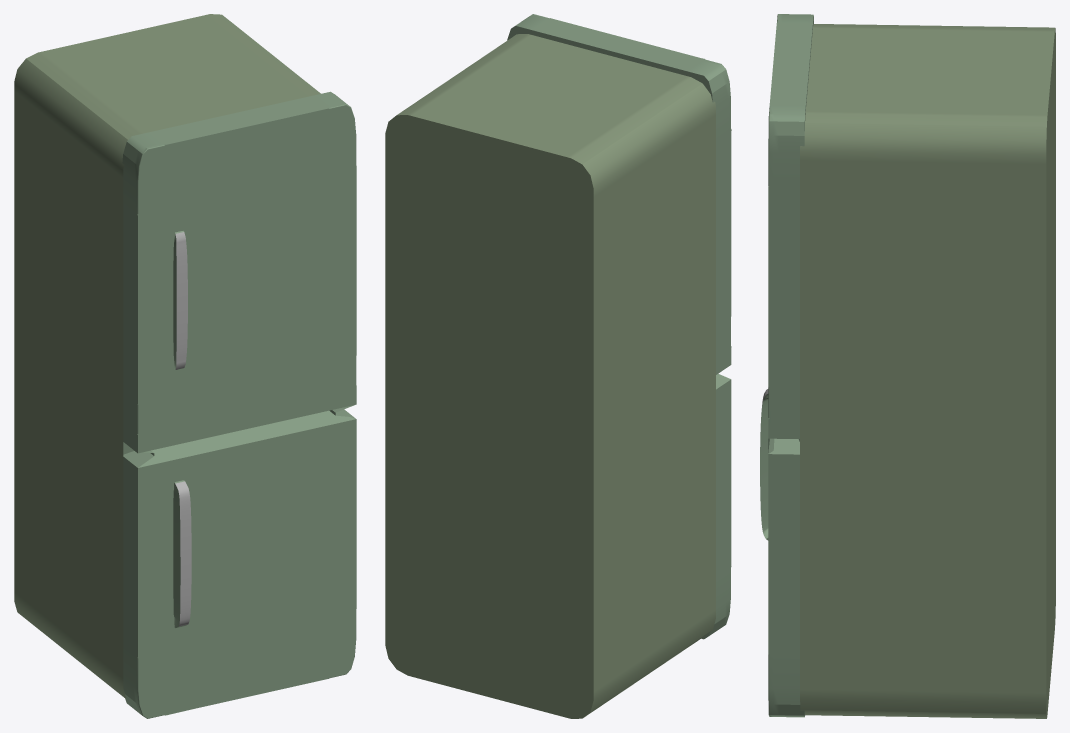
The model's file is kulkasaja.fbx.
3 renders of one model, left to right at view 1: azimuth 30°, elevation 25°; view 2: azimuth 150°, elevation 25°; view 3: azimuth 270°, elevation 25°, orthographic. The views are drawn at different scales.
Visible parts, largest first — view 1: Kulkas; view 2: Kulkas; view 3: Kulkas.
Part boxes in pixels (x1,y1,x2,y2): Kulkas: [14, 14, 356, 718]; Kulkas: [385, 14, 731, 718]; Kulkas: [760, 14, 1055, 718].
Bounding box in the file's own units: 2.22 × 5.44 × 2.41.
